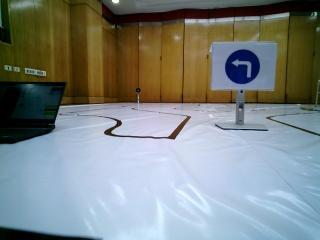left: (212, 48, 271, 89)
